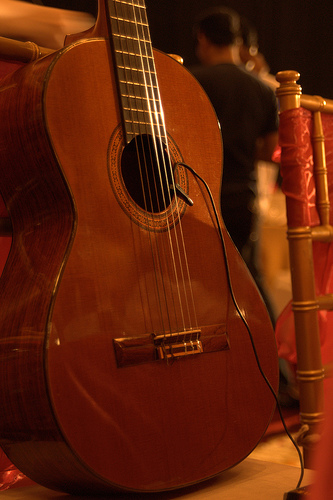guitar: (1, 1, 282, 500)
